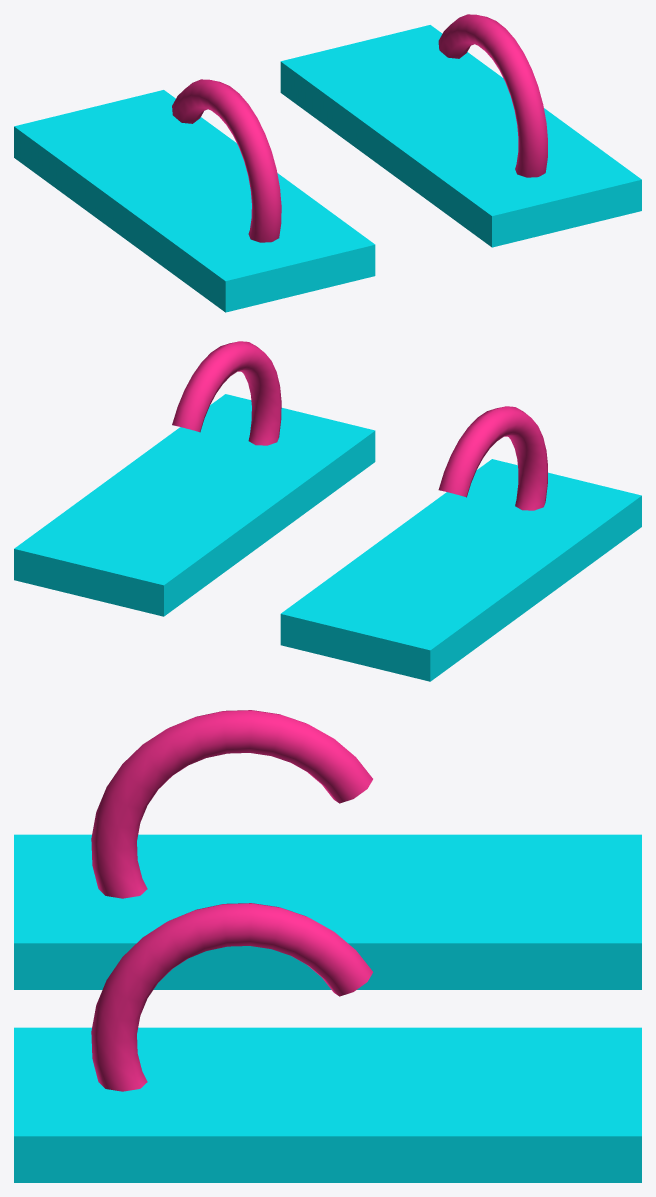
Rendered from flip_flops.glb.
3 views of the same model, one above another, from view 1: azimuth 30°, elevation 25°; view 2: azimuth 150°, elevation 25°; view 3: azimuth 270°, elevation 25° (orthographic). The views are drawn at different scales.
Parts seen in each view (by area): view 1: model_flip_flops; view 2: model_flip_flops; view 3: model_flip_flops.
Part boxes in pixels (x1=…): model_flip_flops: x1=14, y1=14, x2=641, y2=312; model_flip_flops: x1=14, y1=341, x2=641, y2=681; model_flip_flops: x1=14, y1=710, x2=641, y2=1182.
Size of the model in its own units: 2.5 by 0.8689 by 2.2.
